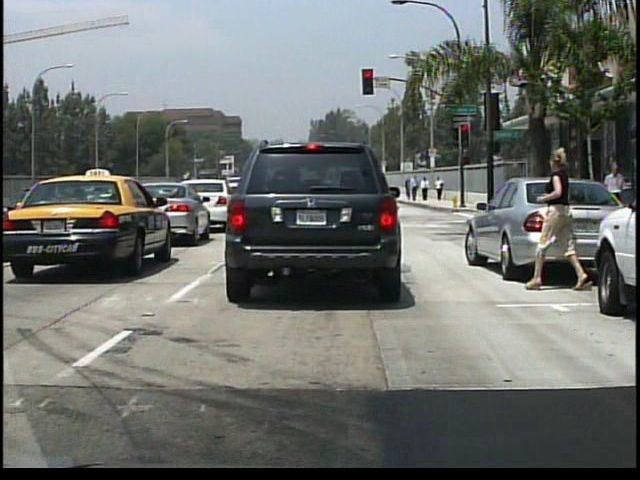person: (529, 141, 592, 291), (599, 160, 626, 235), (409, 175, 420, 202), (434, 176, 445, 202), (421, 177, 430, 203), (405, 178, 414, 200)
